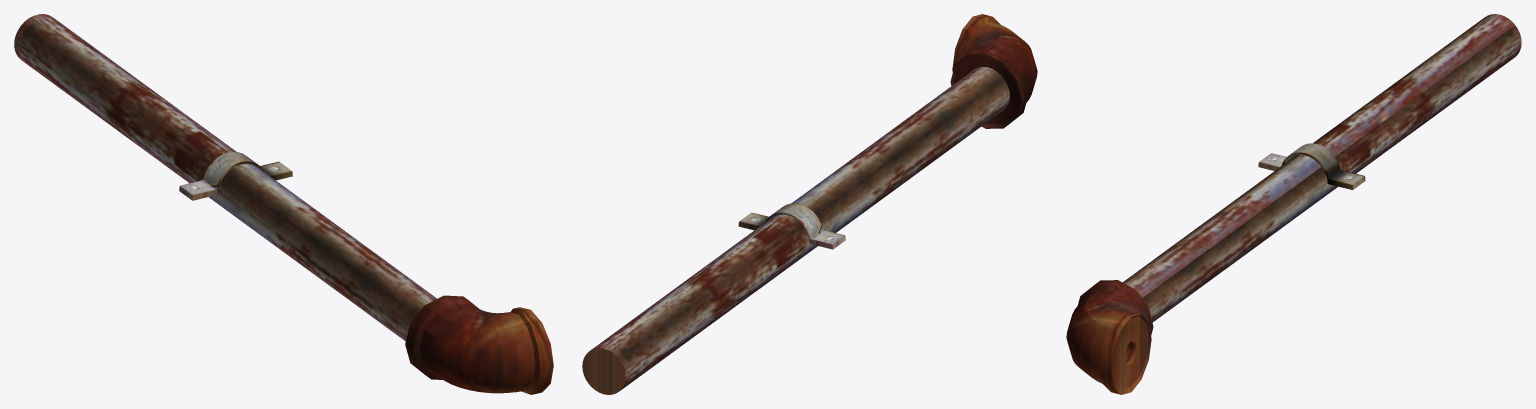
Rendered from RUSTY LEFTY.fbx.
The picture shows the model from 3 angles, left to right: view 1: azimuth 30°, elevation 25°; view 2: azimuth 150°, elevation 25°; view 3: azimuth 330°, elevation 25°; orthographic projection. The views are drawn at different scales.
Visible parts, largest first — view 1: RUSTY LEFTY.001; view 2: RUSTY LEFTY.001; view 3: RUSTY LEFTY.001.
Boxes of the visible parts, x1,y1,x2,y2 form: RUSTY LEFTY.001: (14,14,553,394); RUSTY LEFTY.001: (582,14,1037,394); RUSTY LEFTY.001: (1066,14,1521,394).
Bounding box in the file's own units: 1.78 × 1.33 × 13.95.
